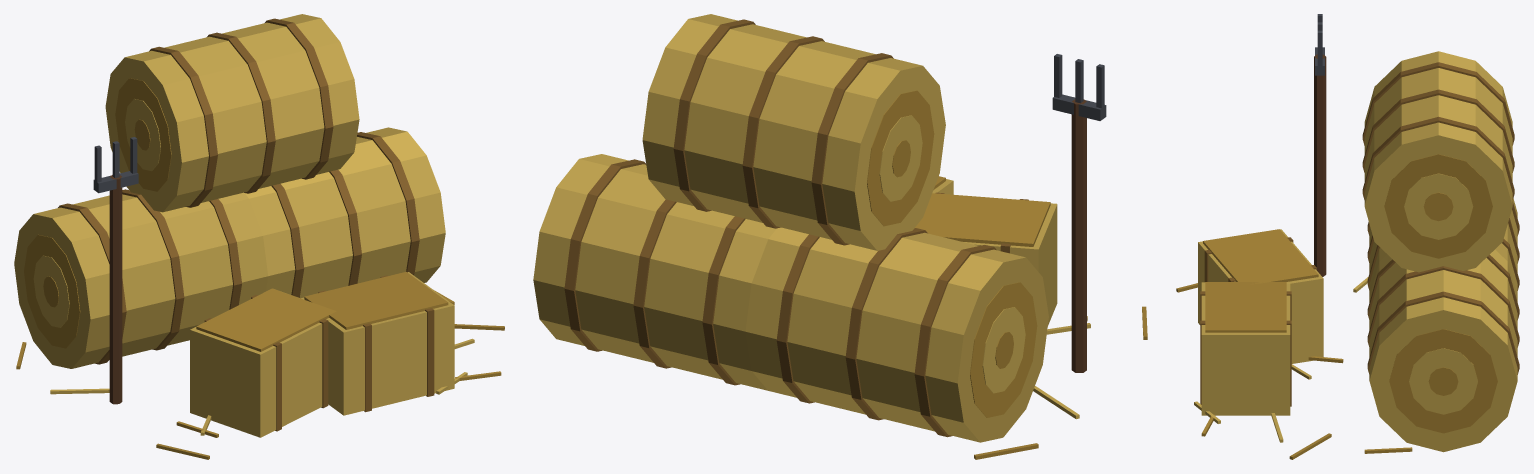
The model's file is Decor_Beanstalk_HayBales.fbx.
3 views of the same model, side by side, from view 1: azimuth 30°, elevation 25°; view 2: azimuth 150°, elevation 25°; view 3: azimuth 270°, elevation 25° (orthographic). The views are drawn at different scales.
Visible parts, largest first — view 1: HayBales_Body; view 2: HayBales_Body; view 3: HayBales_Body.
Boxes of the visible parts, x1,y1,x2,y2 form: HayBales_Body: (14, 14, 504, 459); HayBales_Body: (533, 14, 1147, 459); HayBales_Body: (1176, 14, 1519, 459).
Bounding box in the file's own units: 17.2 × 11.6 × 12.95.
